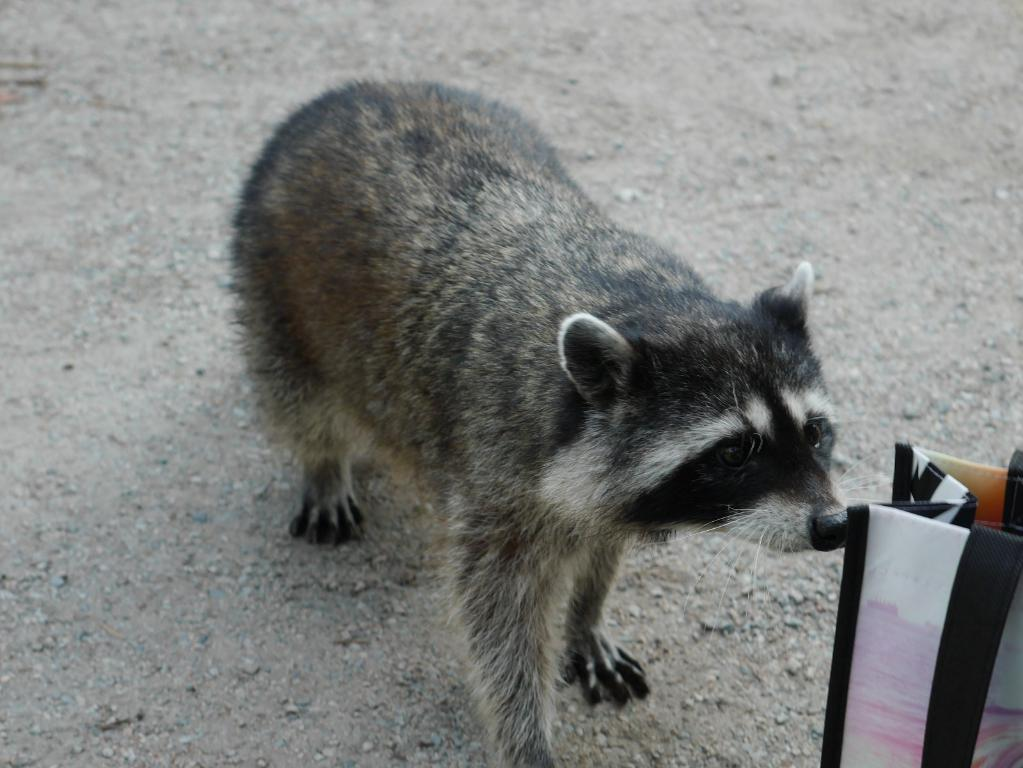raccoon: (225, 79, 845, 768)
